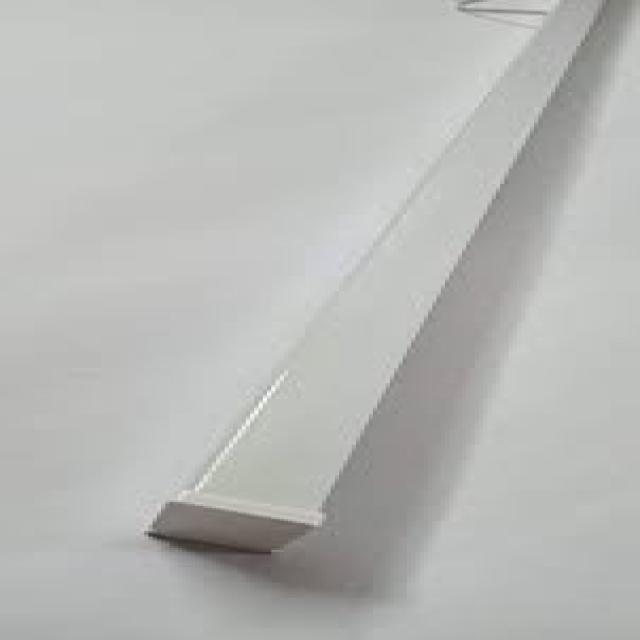tubelight_off: (133, 0, 613, 567)
